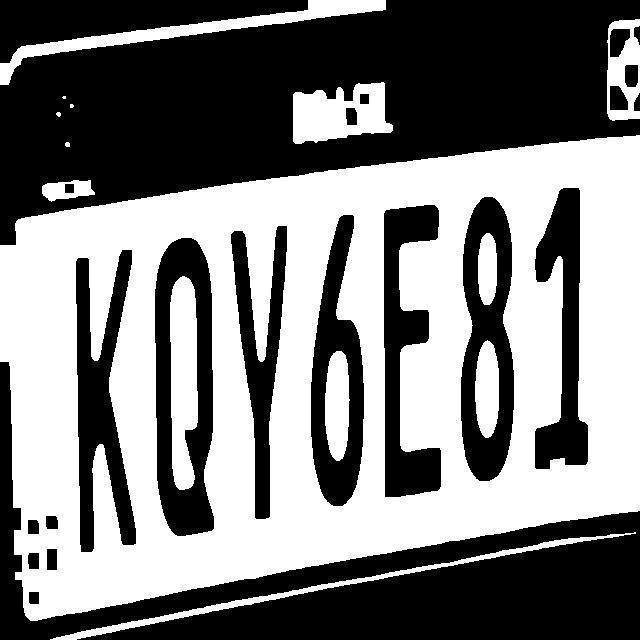1: (531, 183, 599, 475)
6: (306, 210, 376, 510)
8: (456, 193, 521, 488)
e: (381, 201, 445, 513)
k: (72, 245, 139, 565)
q: (149, 235, 218, 546)
y: (228, 222, 294, 534)
